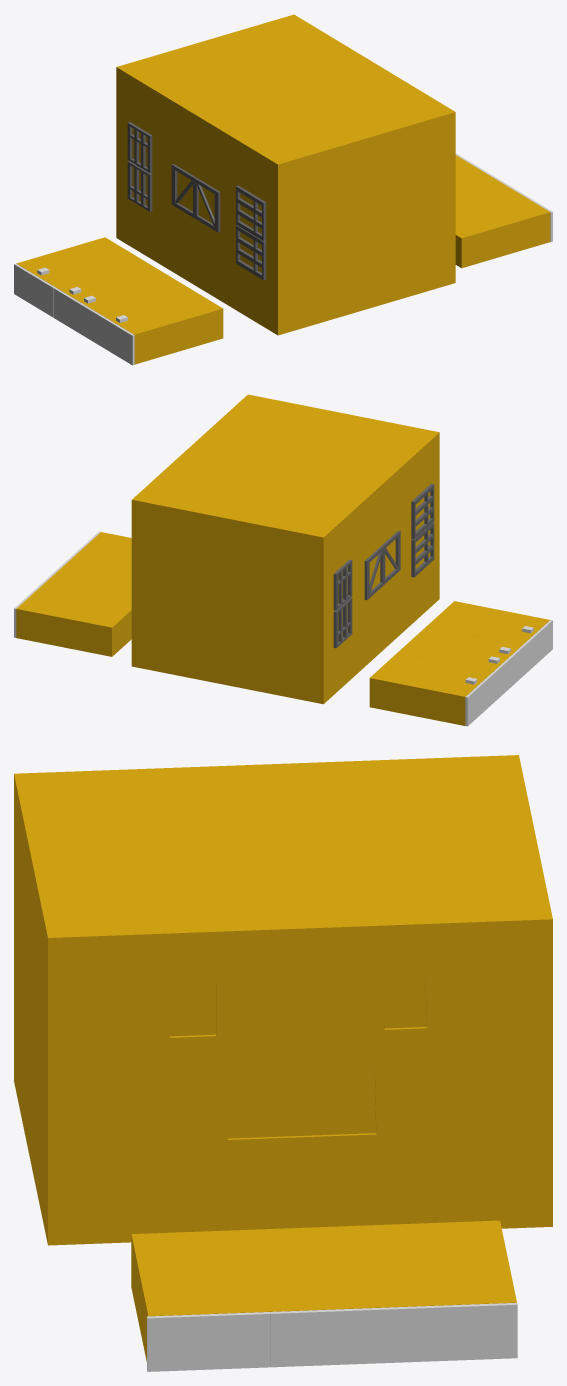
Rendered from Nuti_위성.fbx.
3 renders of one model, top to bottom at view 1: azimuth 30°, elevation 25°; view 2: azimuth 150°, elevation 25°; view 3: azimuth 270°, elevation 25°, orthographic. The views are drawn at different scales.
Visible parts, largest first — view 1: 위성, 위성.001, 위성.004, 위성.003, 위성.002, 위성.005; view 2: 위성, 위성.003, 위성.006, 위성.001, 위성.002, 위성.005, 위성.004; view 3: 위성, 위성.004, 위성.005, 위성.006.
Boxes of the visible parts, x1,y1,x2,y2 form: 위성: [116, 14, 455, 335]; 위성.001: [93, 285, 223, 365]; 위성.004: [455, 188, 552, 268]; 위성.003: [14, 237, 143, 317]; 위성.002: [53, 261, 183, 341]; 위성.005: [455, 164, 512, 204]; 위성: [131, 394, 439, 704]; 위성.003: [369, 652, 496, 726]; 위성.006: [14, 583, 131, 656]; 위성.001: [426, 601, 552, 674]; 위성.002: [398, 626, 524, 700]; 위성.005: [42, 557, 131, 600]; 위성.004: [71, 531, 131, 568]; 위성: [14, 755, 552, 1245]; 위성.004: [131, 1229, 271, 1371]; 위성.005: [254, 1225, 394, 1367]; 위성.006: [377, 1220, 517, 1362].
Size of the model in its own units: 186 by 69.98 by 105.
